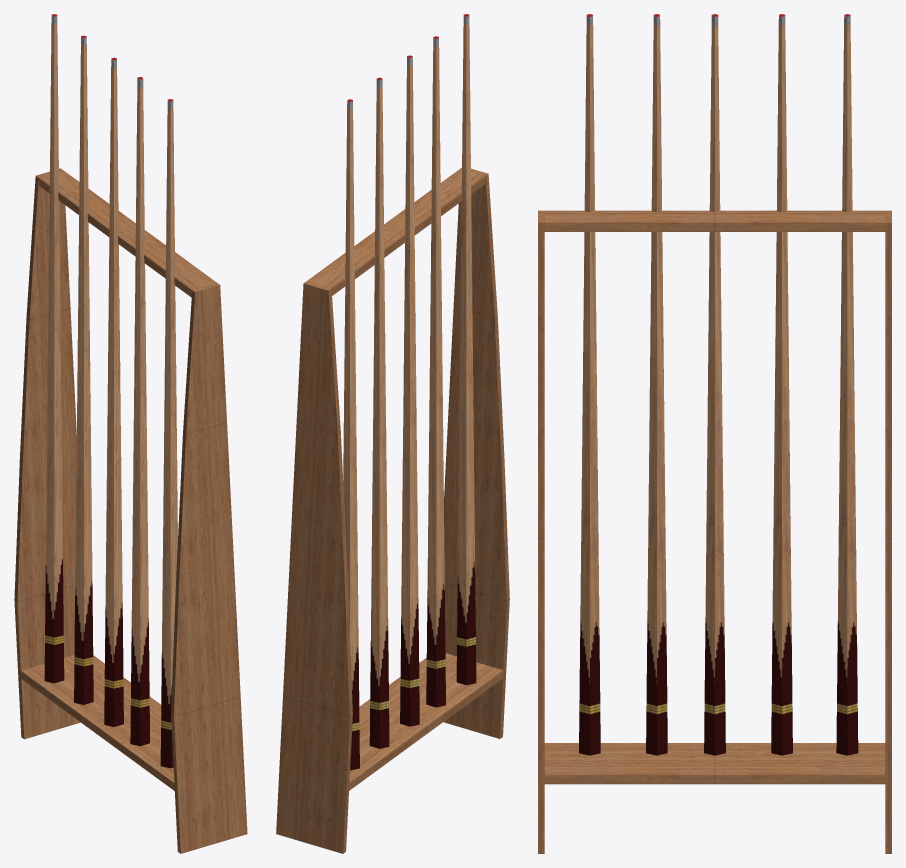
Rendered from rack.obj.
3 renders of one model, left to right at view 1: azimuth 30°, elevation 25°; view 2: azimuth 150°, elevation 25°; view 3: azimuth 270°, elevation 25°, orthographic. The views are drawn at different scales.
Visible parts, largest first — view 1: PoolCue.004; view 2: PoolCue.004; view 3: PoolCue.004.
Boxes of the visible parts, <box> form: PoolCue.004: <box>14,14,247,853</box>; PoolCue.004: <box>276,14,509,853</box>; PoolCue.004: <box>538,14,891,853</box>.
Size of the model in its own units: 0.171 by 1.63 by 0.6426.
